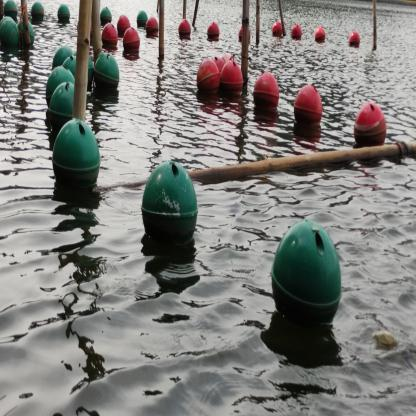green_buoy: (270, 218, 342, 337), (140, 160, 199, 255), (50, 117, 100, 197), (45, 66, 75, 106), (48, 82, 75, 123), (94, 51, 119, 92), (72, 51, 94, 88), (0, 19, 19, 49), (51, 46, 74, 70), (17, 20, 35, 46), (63, 56, 78, 76), (3, 0, 18, 18), (31, 2, 45, 21), (57, 4, 70, 24), (100, 5, 112, 25), (136, 8, 148, 28)
red_buoy: (352, 100, 388, 152), (292, 81, 322, 130), (254, 70, 280, 111), (219, 60, 244, 99), (196, 58, 220, 96), (101, 22, 119, 50), (122, 26, 140, 52), (222, 51, 237, 72), (178, 18, 192, 40), (116, 16, 130, 38), (211, 57, 226, 76), (146, 17, 160, 37), (238, 26, 252, 44), (349, 30, 361, 50), (290, 22, 302, 42), (314, 25, 326, 44), (272, 19, 284, 37), (207, 22, 219, 40)
